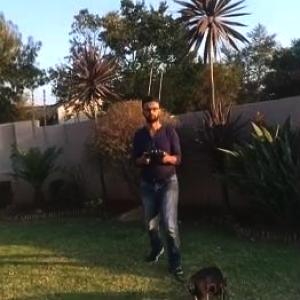follow: (128, 89, 188, 277)
null: (172, 262, 234, 299)
